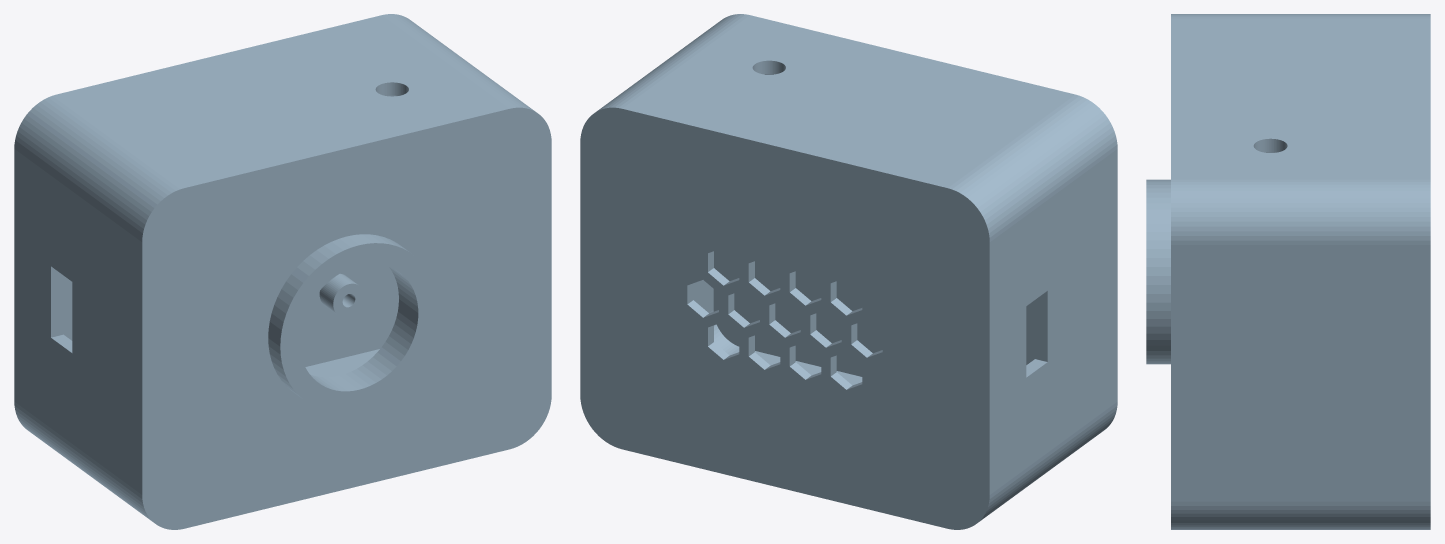
The model's file is body.glb.
3 views of the same model, side by side, from view 1: azimuth 30°, elevation 25°; view 2: azimuth 150°, elevation 25°; view 3: azimuth 270°, elevation 25° (orthographic).
Parts seen in each view (by area): view 1: body; view 2: body; view 3: body.
Boxes of the visible parts, x1,y1,x2,y2 form: body: [14, 14, 551, 529]; body: [580, 14, 1117, 529]; body: [1146, 14, 1430, 529].
Size of the model in its own units: 78 by 62 by 46.2.
